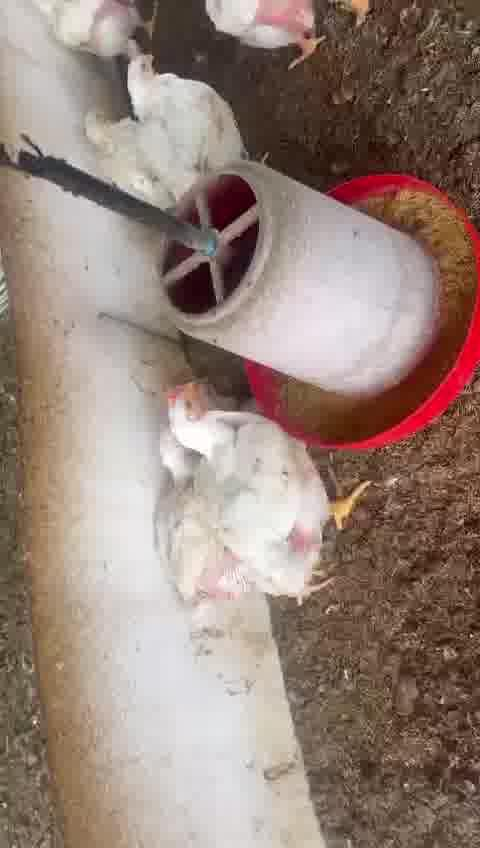Normal: (170, 379, 366, 596), (125, 52, 246, 164)
